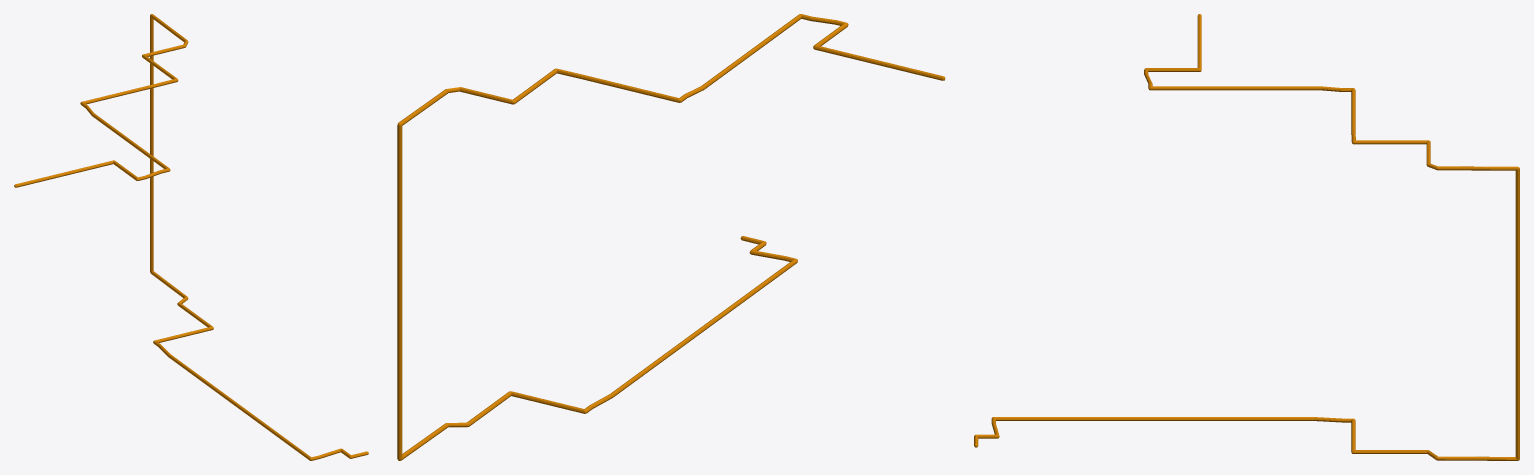
The picture shows the model from 3 angles, left to right: view 1: azimuth 30°, elevation 25°; view 2: azimuth 150°, elevation 25°; view 3: azimuth 270°, elevation 25°; orthographic projection. The views are drawn at different scales.
Bounding box in the file's own units: 1713 × 1520 × 2557.
